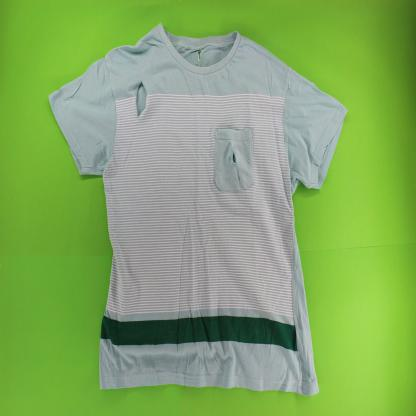hole: (134, 79, 149, 122), (230, 143, 238, 167), (195, 47, 203, 67)
